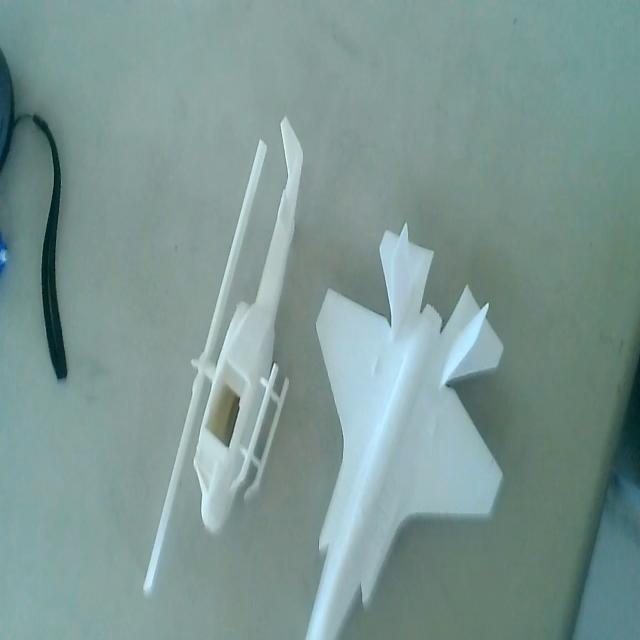Helicopter: (144, 114, 302, 596)
Jet: (300, 223, 503, 640)
